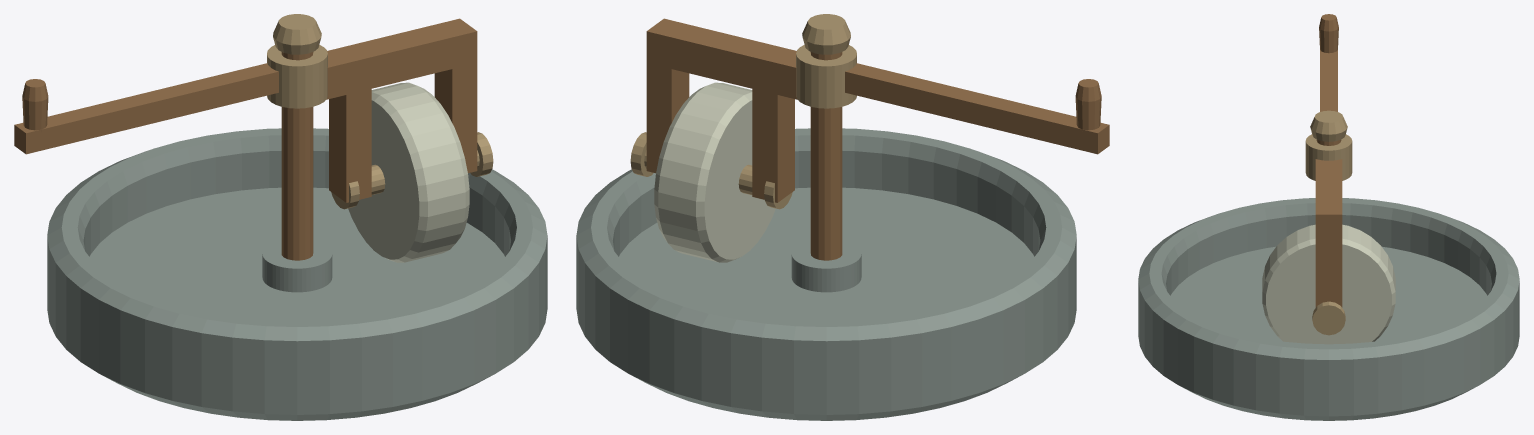
3 renders of one model, left to right at view 1: azimuth 30°, elevation 25°; view 2: azimuth 150°, elevation 25°; view 3: azimuth 270°, elevation 25°, orthographic. The views are drawn at different scales.
Parts seen in each view (by area): view 1: WholeAnnularGrindingPanAndCentralBoss, WholeUprightAnnularEdgeRunnerStone, WholeRadialDoubleCheekFork, WholeOpposedSweepHandle, WholeCentralVerticalSpindle, WholeThroughBoredCarrierCollar, WholeCentralTopRetainingCap, WholeUprightEndGrip, WholeAxleRetainingCapOuter; view 2: WholeAnnularGrindingPanAndCentralBoss, WholeUprightAnnularEdgeRunnerStone, WholeRadialDoubleCheekFork, WholeOpposedSweepHandle, WholeCentralVerticalSpindle, WholeThroughBoredCarrierCollar, WholeCentralTopRetainingCap, WholeUprightEndGrip, WholeAxleRetainingCapOuter; view 3: WholeAnnularGrindingPanAndCentralBoss, WholeUprightAnnularEdgeRunnerStone, WholeRadialDoubleCheekFork, WholeThroughBoredCarrierCollar, WholeOpposedSweepHandle, WholeCentralTopRetainingCap, WholeAxleRetainingCapOuter, WholeUprightEndGrip.
Part boxes in pixels (box(x1,y1,x2,y2)): WholeAnnularGrindingPanAndCentralBoss: box(47, 128, 547, 420); WholeUprightAnnularEdgeRunnerStone: box(348, 82, 469, 262); WholeRadialDoubleCheekFork: box(326, 18, 477, 202); WholeOpposedSweepHandle: box(14, 63, 278, 154); WholeCentralVerticalSpindle: box(281, 52, 313, 260); WholeThroughBoredCarrierCollar: box(267, 45, 327, 108); WholeCentralTopRetainingCap: box(273, 14, 321, 54); WholeUprightEndGrip: box(22, 79, 48, 131); WholeAxleRetainingCapOuter: box(470, 132, 493, 176); WholeAnnularGrindingPanAndCentralBoss: box(576, 128, 1076, 420); WholeUprightAnnularEdgeRunnerStone: box(654, 82, 775, 262); WholeRadialDoubleCheekFork: box(646, 18, 797, 202); WholeOpposedSweepHandle: box(845, 63, 1109, 154); WholeCentralVerticalSpindle: box(810, 52, 842, 260); WholeThroughBoredCarrierCollar: box(796, 45, 856, 108); WholeCentralTopRetainingCap: box(802, 14, 850, 54); WholeUprightEndGrip: box(1075, 79, 1101, 131); WholeAxleRetainingCapOuter: box(630, 132, 653, 176); WholeAnnularGrindingPanAndCentralBoss: box(1138, 198, 1519, 420); WholeUprightAnnularEdgeRunnerStone: box(1262, 224, 1395, 344); WholeRadialDoubleCheekFork: box(1315, 159, 1342, 307); WholeThroughBoredCarrierCollar: box(1305, 134, 1352, 180); WholeOpposedSweepHandle: box(1320, 50, 1337, 111); WholeCentralTopRetainingCap: box(1310, 110, 1347, 141); WholeAxleRetainingCapOuter: box(1312, 301, 1345, 335); WholeUprightEndGrip: box(1319, 14, 1338, 53).
Size of the model in its own units: 1.96 by 1.16 by 1.72.
